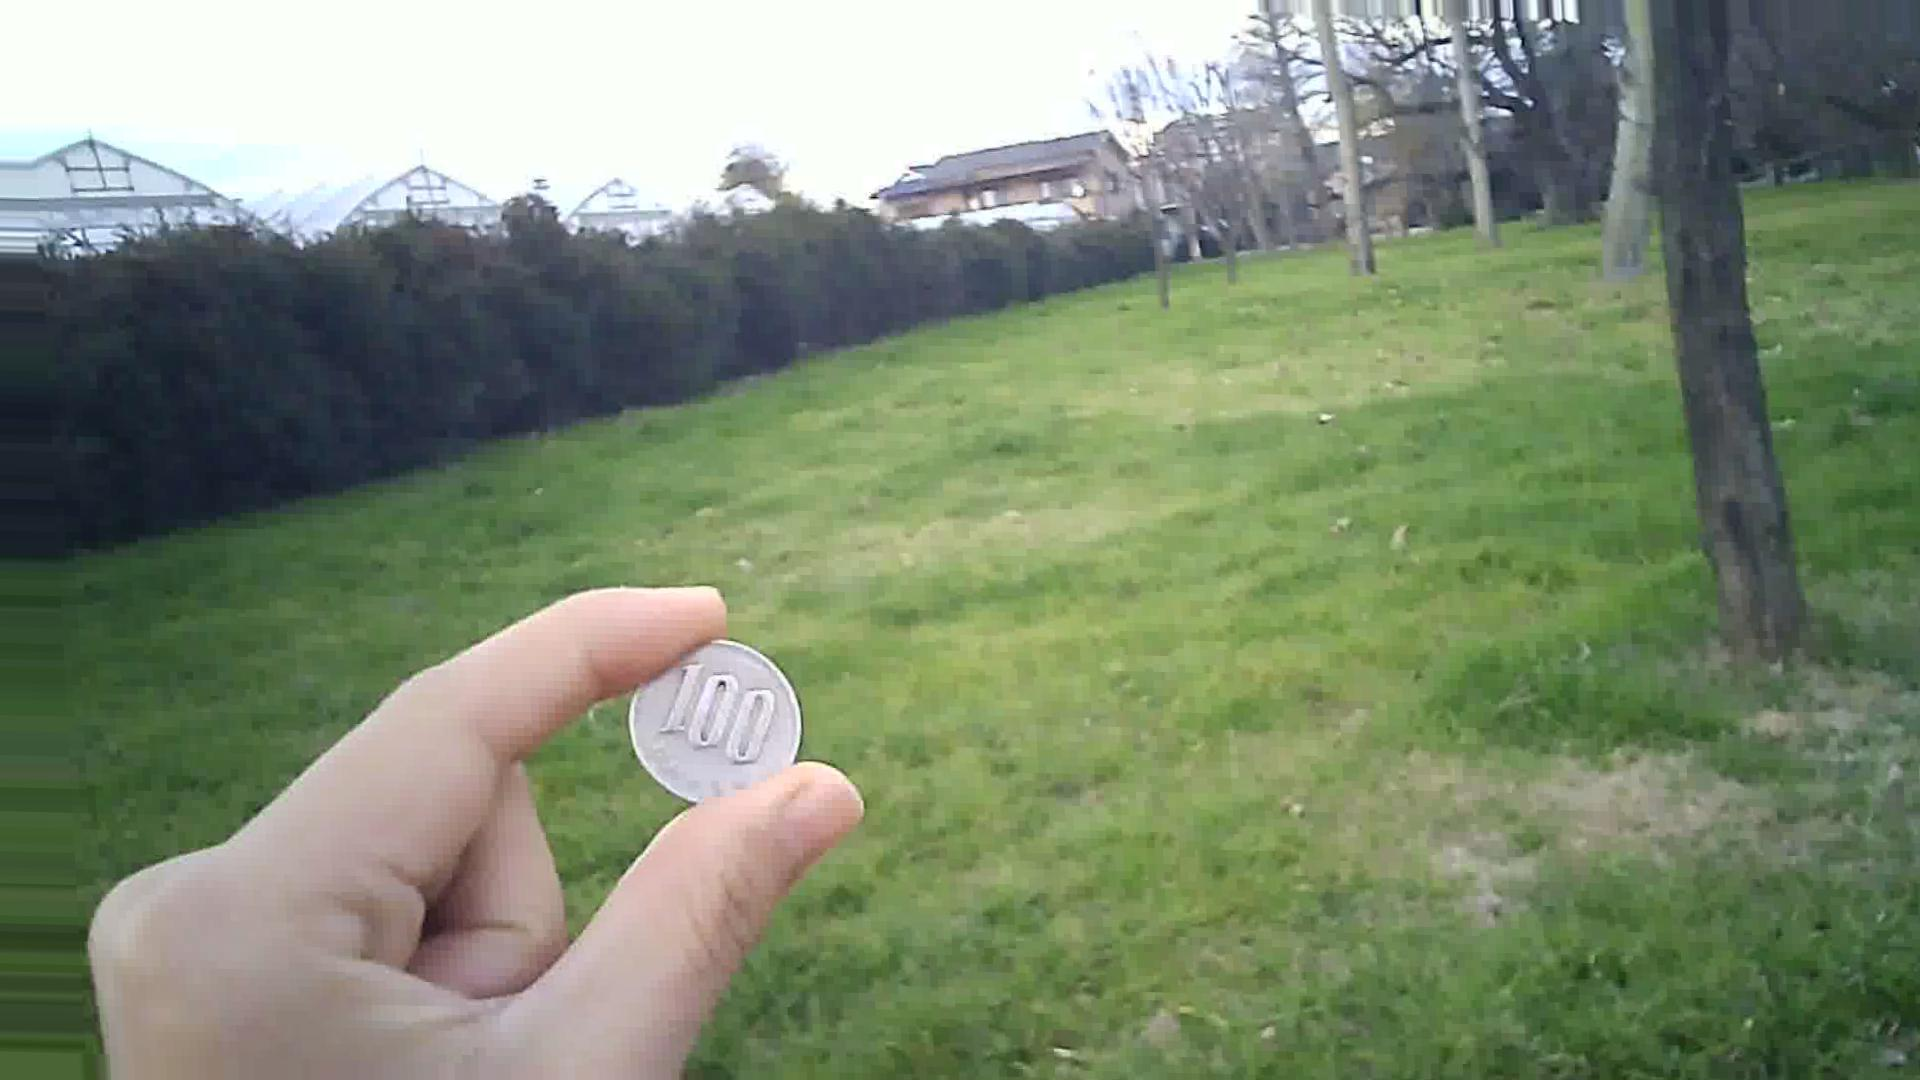100 Yen: (625, 624, 822, 804)
